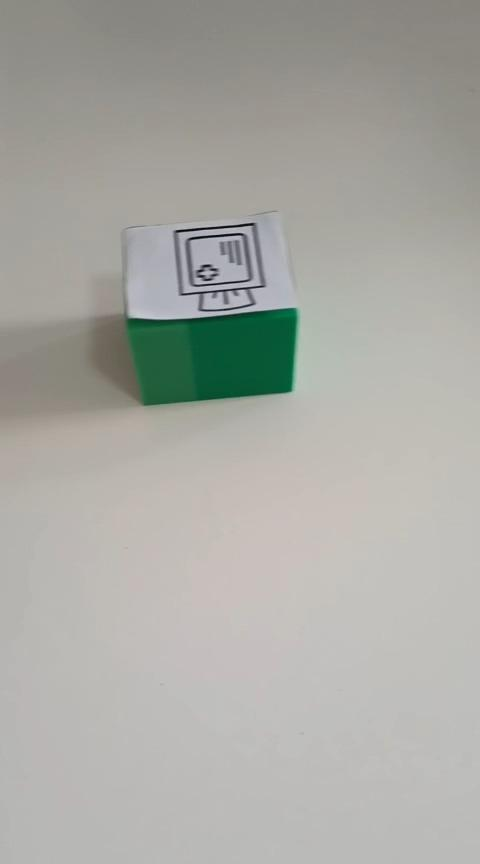Gauze: (119, 208, 299, 406)
